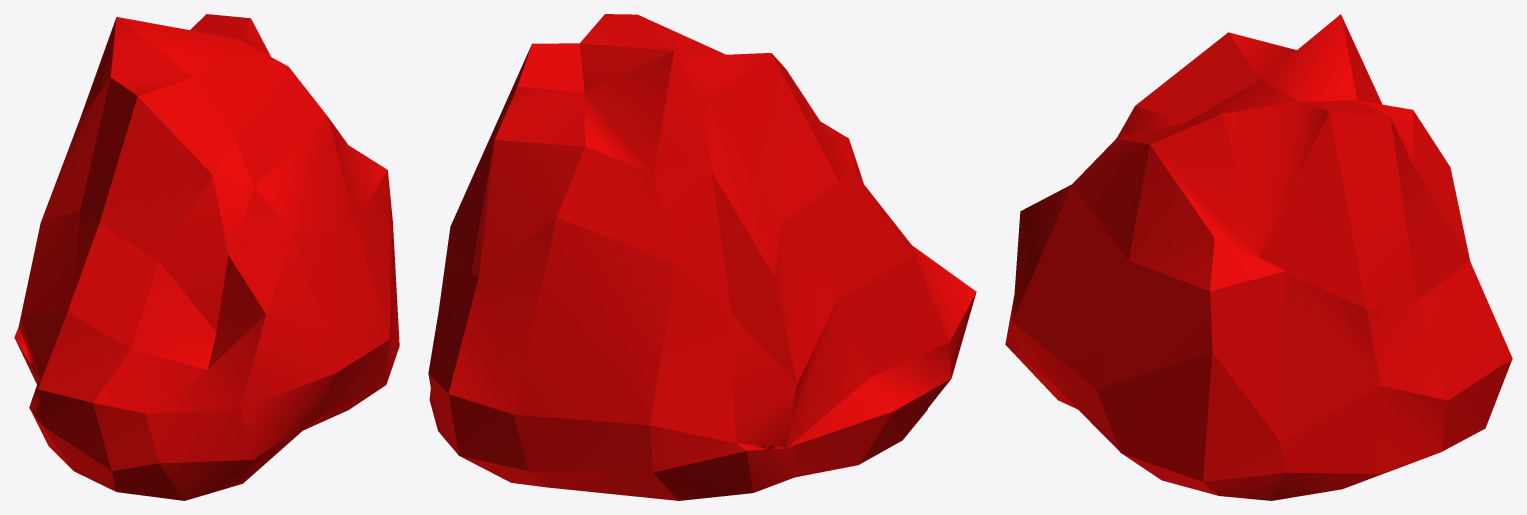
File: Bush03.fbx
3 renders of one model, left to right at view 1: azimuth 30°, elevation 25°; view 2: azimuth 150°, elevation 25°; view 3: azimuth 270°, elevation 25°, orthographic. The views are drawn at different scales.
Parts seen in each view (by area): view 1: Bush_03; view 2: Bush_03; view 3: Bush_03.
Part boxes in pixels (x1=…): Bush_03: x1=14, y1=14, x2=399, y2=500; Bush_03: x1=428, y1=14, x2=976, y2=500; Bush_03: x1=1005, y1=14, x2=1512, y2=500.
Size of the model in its own units: 1.87 by 1.74 by 2.05.
